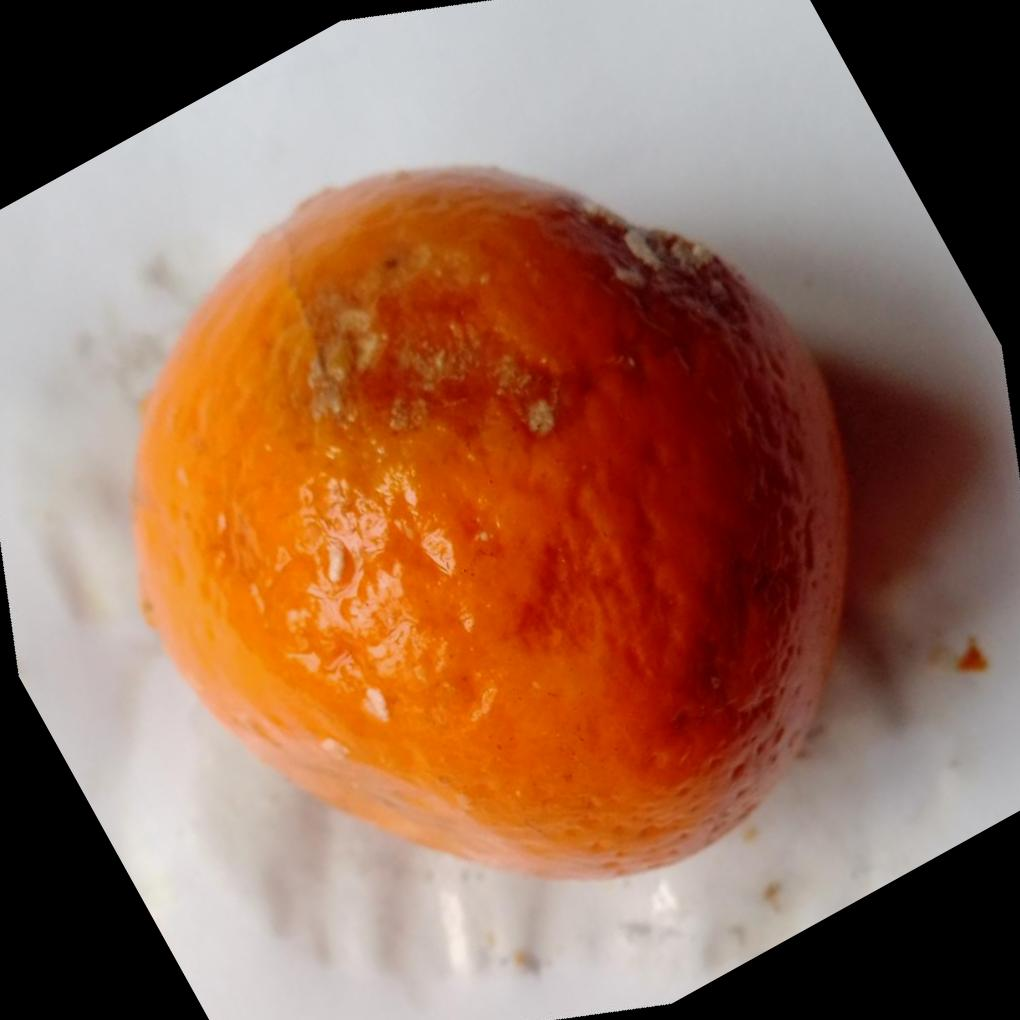FreshOrange: (130, 164, 853, 888)
